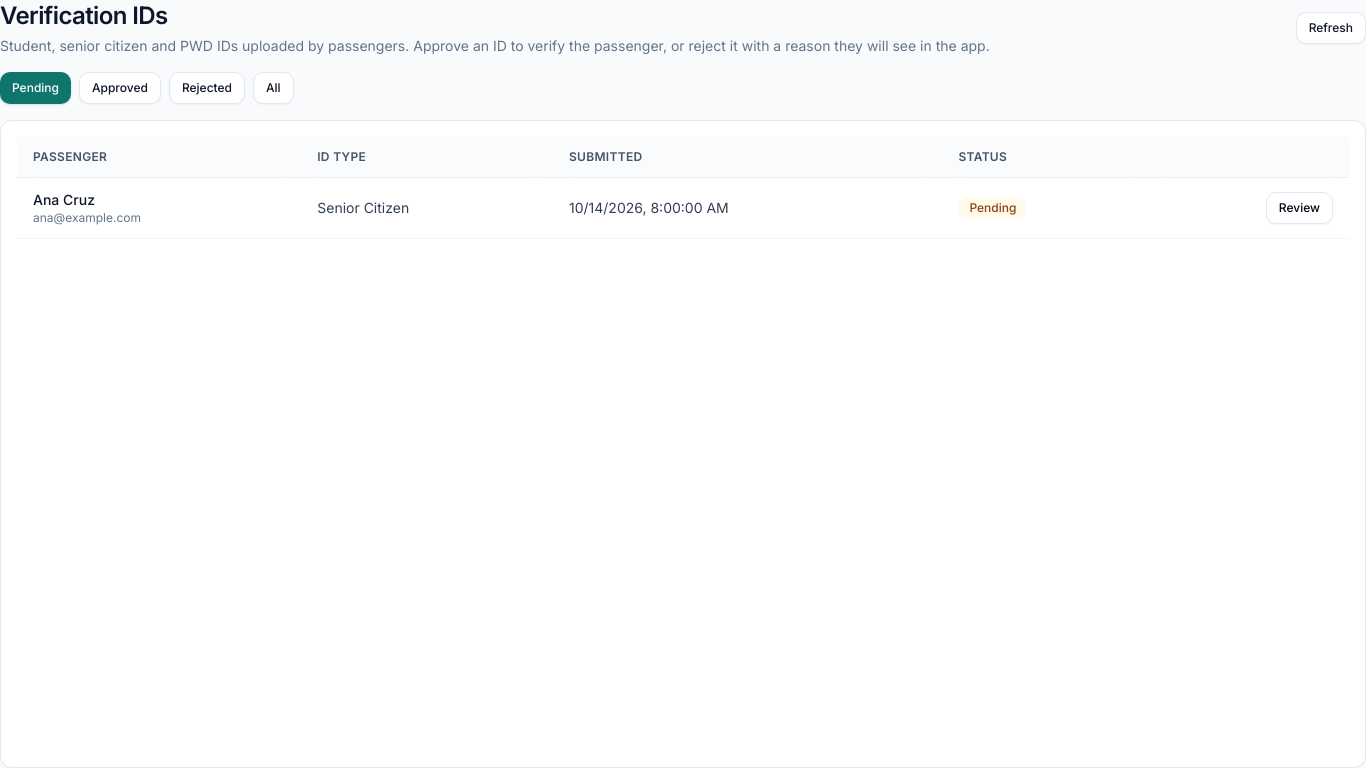
VerificationIdsPage › does not request a back image that was never uploaded
Click the button "Review": (1299,208) [1266, 192, 1333, 224]
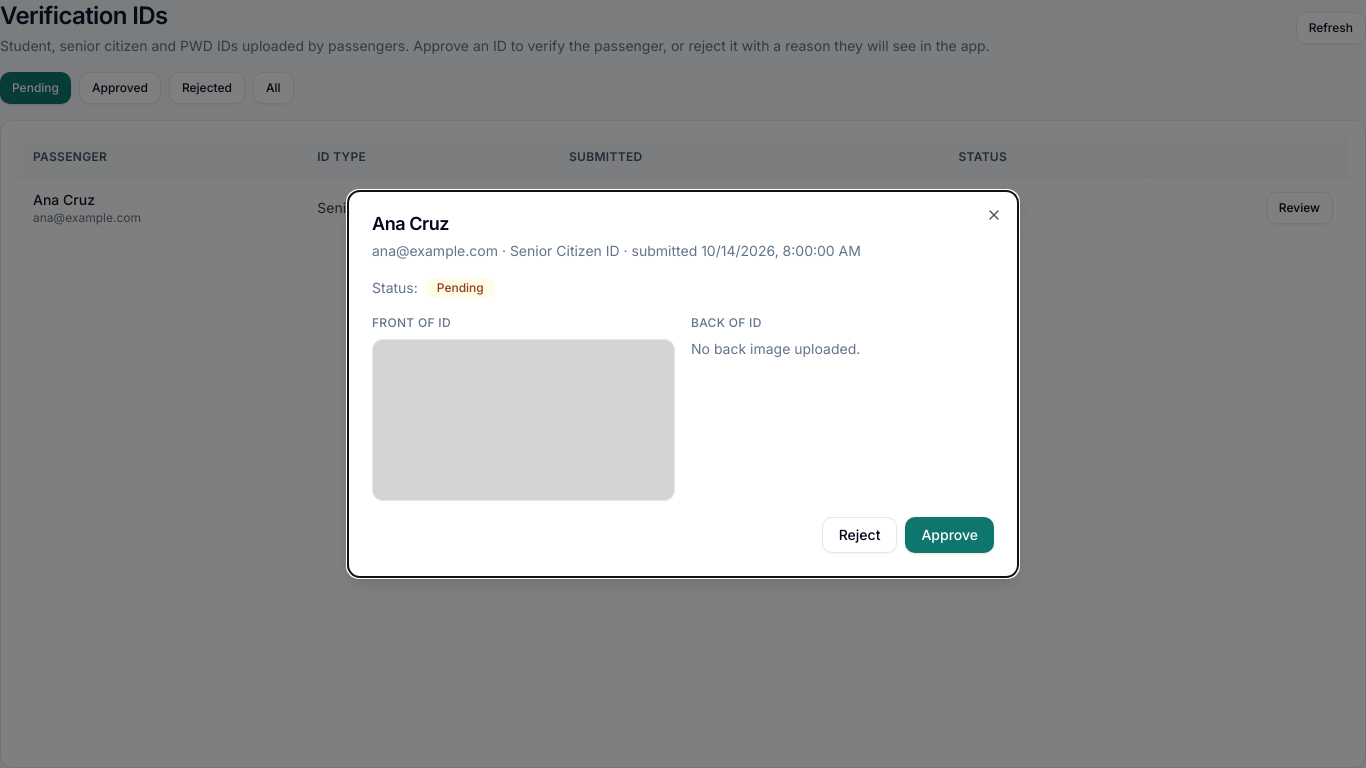
Expected: the text "No back image uploaded." is shown, [691, 340, 860, 357]
